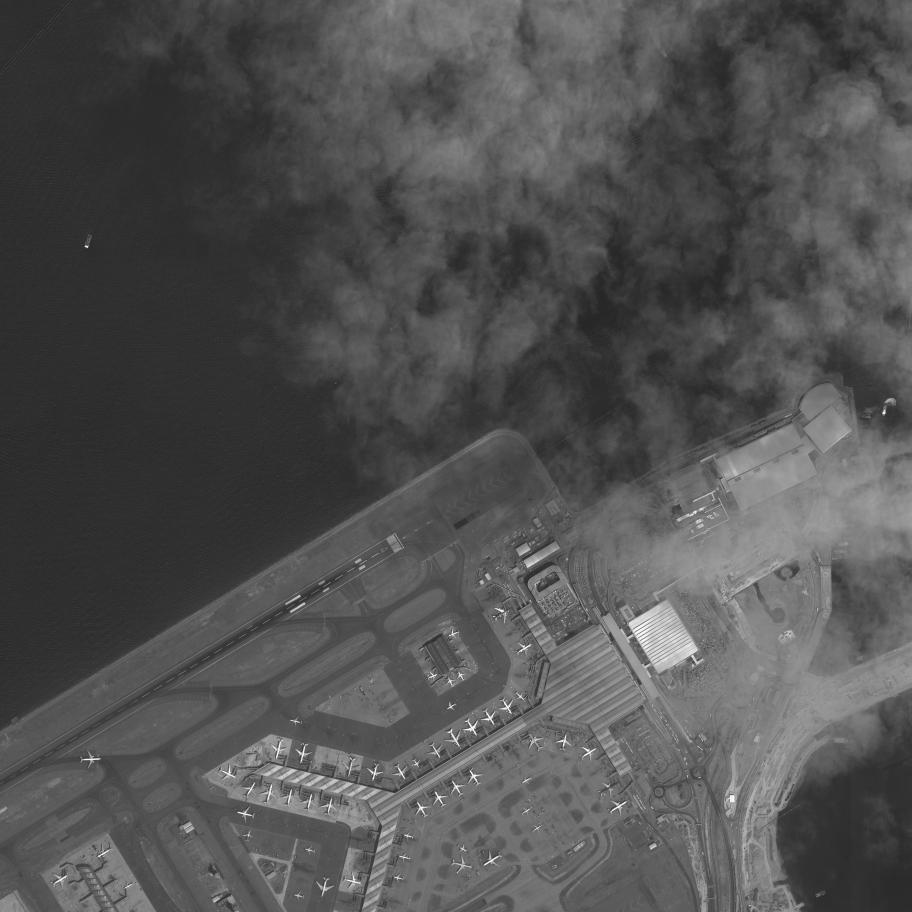plane: (521, 727, 550, 757), (476, 845, 506, 873), (602, 793, 632, 821), (441, 724, 468, 752), (47, 866, 74, 894), (489, 600, 516, 628), (494, 693, 521, 720), (594, 776, 621, 803), (458, 714, 484, 741), (477, 704, 503, 730), (444, 776, 470, 802), (575, 741, 601, 767), (312, 874, 337, 901), (427, 787, 452, 814), (92, 840, 118, 865), (447, 853, 475, 876), (214, 761, 240, 785), (238, 777, 262, 803), (291, 740, 315, 765), (409, 797, 433, 822), (258, 781, 281, 807), (423, 739, 447, 763), (463, 766, 487, 790), (512, 636, 536, 660), (339, 754, 362, 779), (235, 803, 259, 826), (553, 731, 576, 755), (389, 761, 412, 784), (340, 870, 363, 893), (267, 736, 289, 760), (364, 760, 386, 783), (318, 796, 340, 819), (279, 787, 300, 809), (299, 792, 319, 814), (79, 749, 101, 769), (529, 820, 546, 836), (512, 688, 528, 704), (445, 626, 461, 641), (444, 698, 459, 714), (409, 755, 424, 771), (518, 803, 534, 818), (454, 840, 470, 855), (519, 772, 534, 787), (443, 675, 457, 690), (241, 829, 256, 843), (303, 843, 318, 857), (288, 715, 304, 728), (454, 669, 468, 683), (292, 889, 306, 903), (121, 878, 135, 892), (425, 670, 439, 683), (392, 872, 406, 885), (397, 851, 411, 864), (401, 830, 415, 842)
ship: (655, 42, 669, 60), (83, 233, 93, 250), (814, 889, 827, 899), (853, 654, 867, 663), (845, 734, 853, 749), (881, 403, 888, 416), (835, 541, 850, 547), (834, 549, 847, 554), (859, 411, 871, 416), (861, 415, 872, 419)
